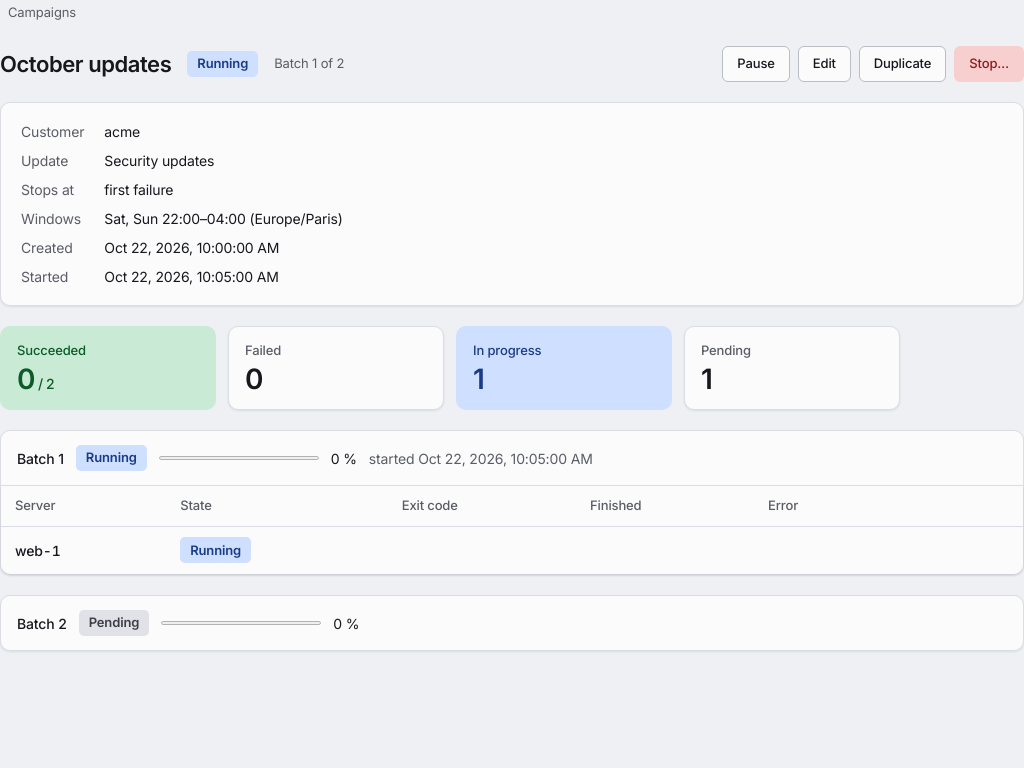
Test: CampaignPage › stops only after confirmation and shows API errors
This screenshot has width=1024, height=768.
Click the button "Stop…". click: point(989, 64)
box: [954,46,1023,82]
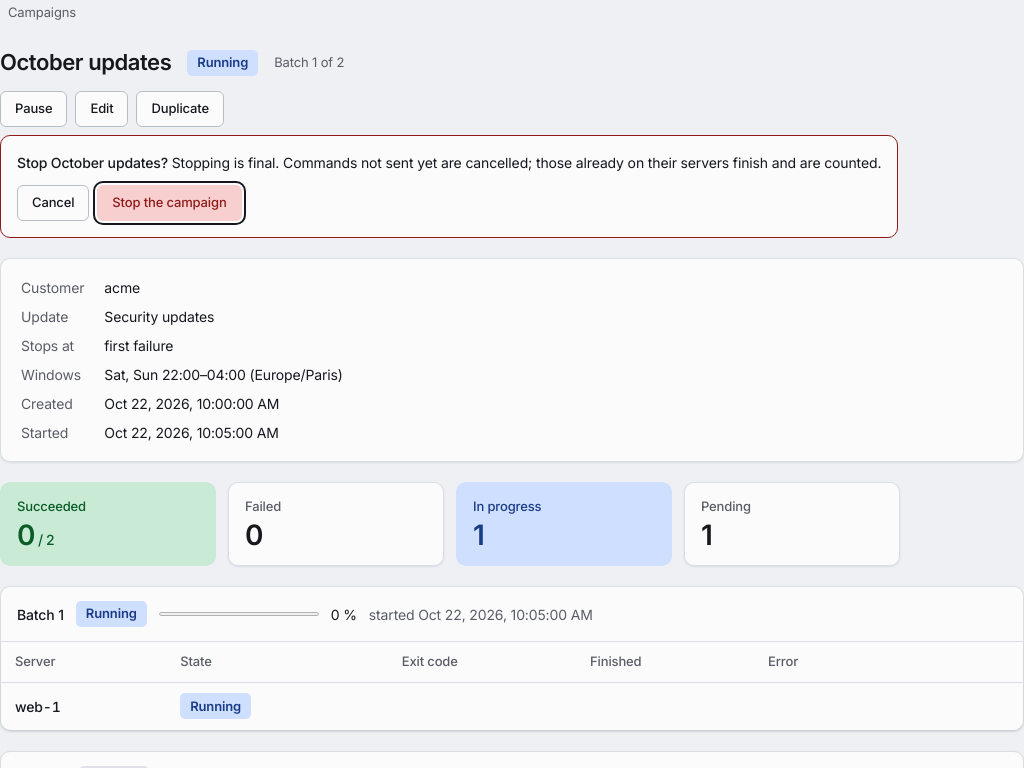
Click the button "Cancel". click: point(53, 203)
box: [17,185,89,221]
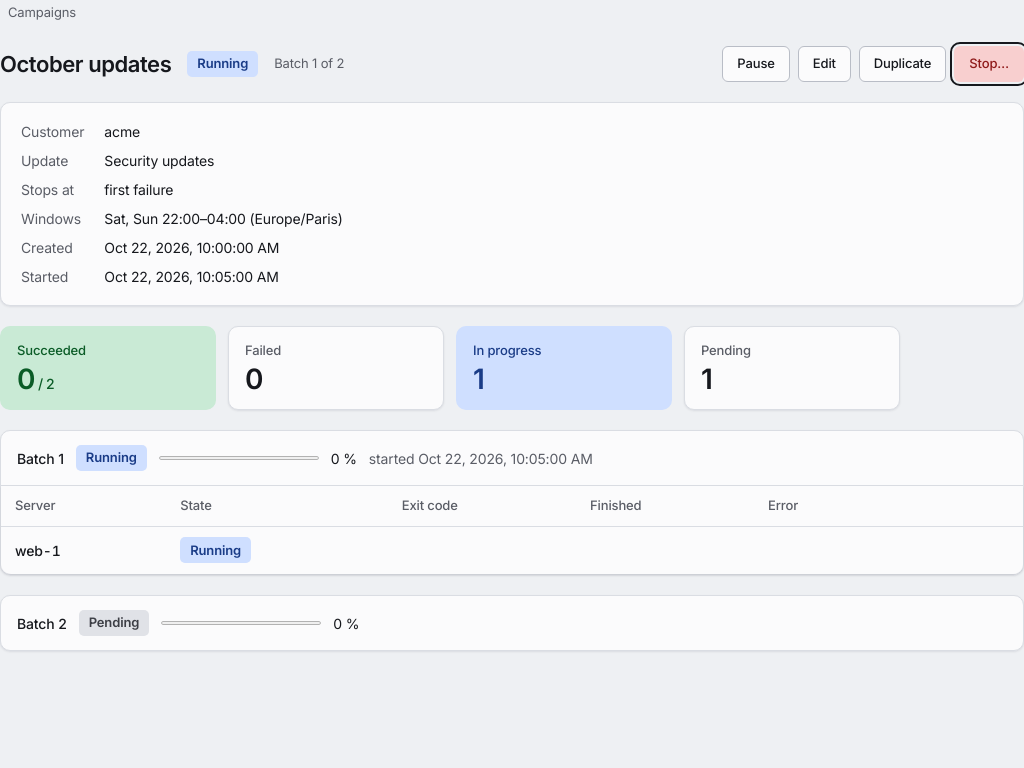
Click the button "Stop…". click: point(989, 64)
box: [954,46,1023,82]
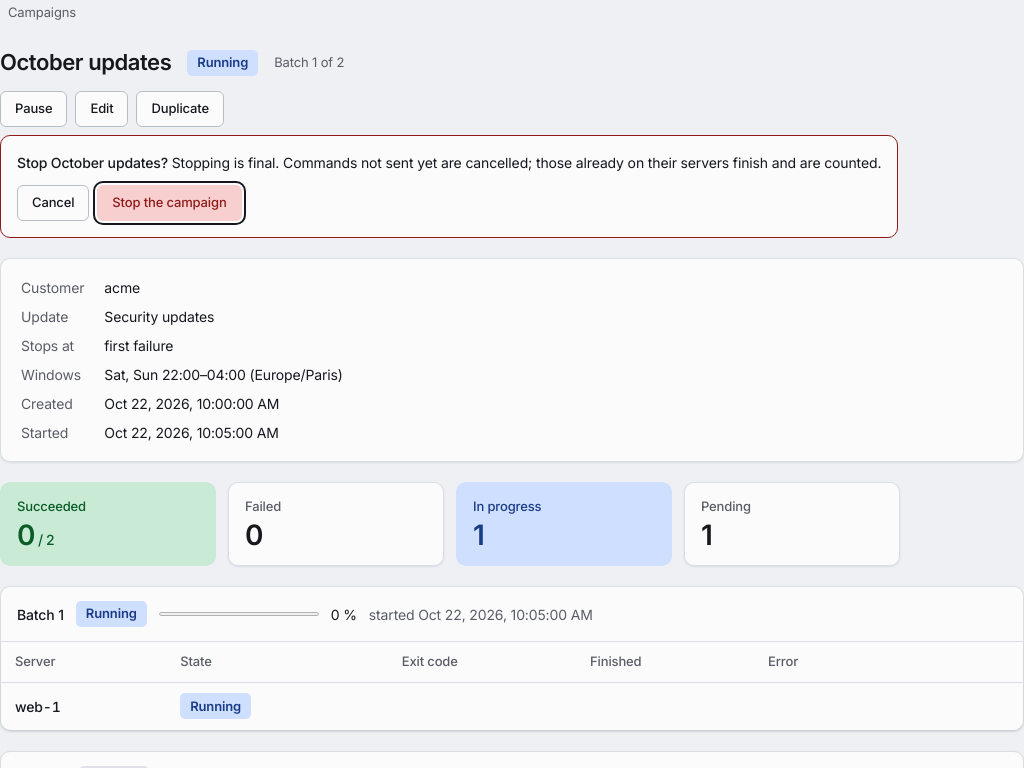
Click the button "Stop the campaign". click: point(169, 203)
box: [97,185,242,221]
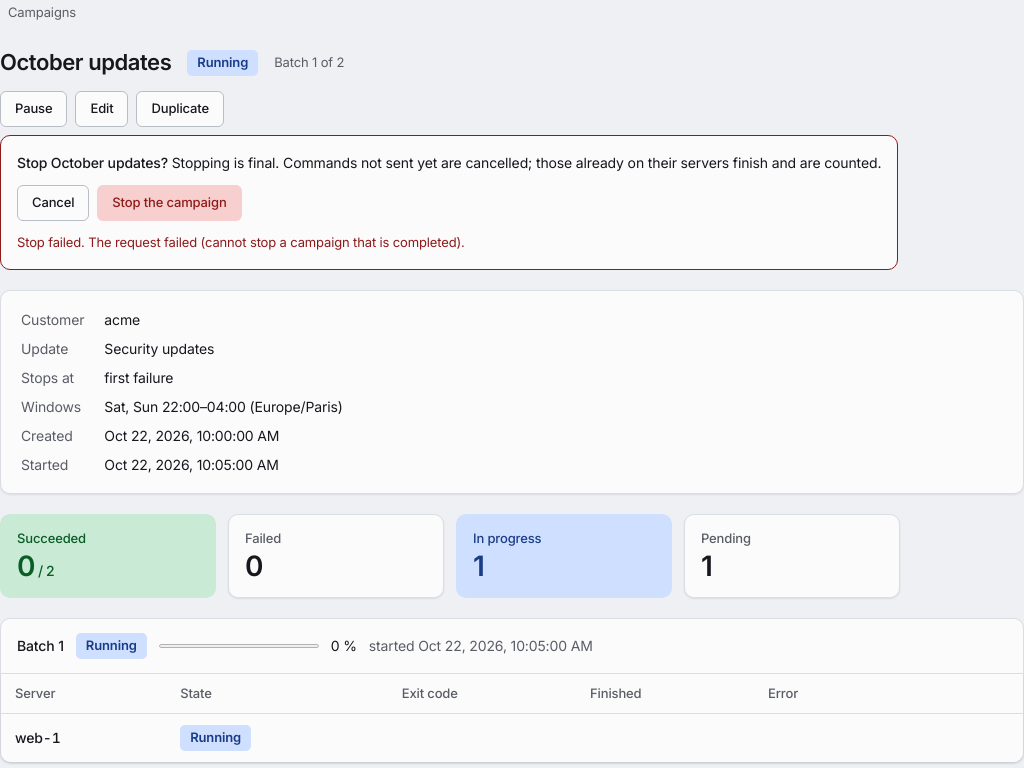
Expected: the message shows "cannot stop a campaign that is completed", [17,234,465,250]
